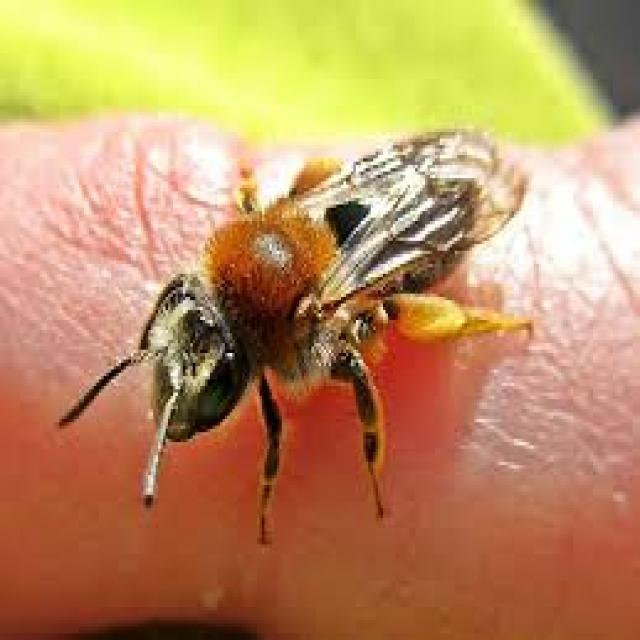Bees: (57, 122, 535, 542)
